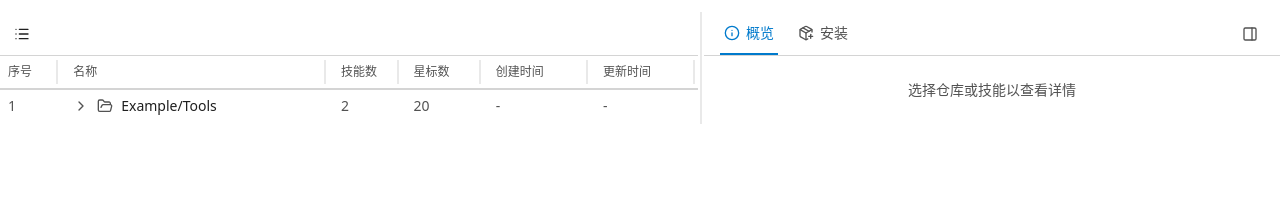
Test: tree browser workspace › opens icon actions with the keyboard, preserves confirmation, and closes on Escape
Press + in the element named "技能列表", box [0,12,698,124]
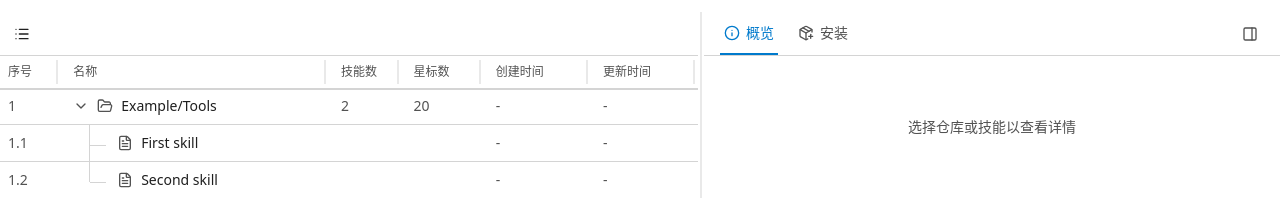
Press F10 in the row named "查看 First skill 的详情", box [0,124,698,162]
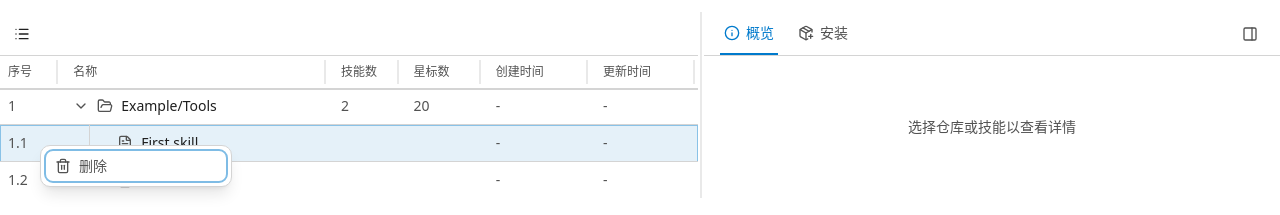
expect the 8th icon is shown: met, box [55,158,71,174]
Click the menu item "删除".
click(136, 166)  # box [45,150,227,182]
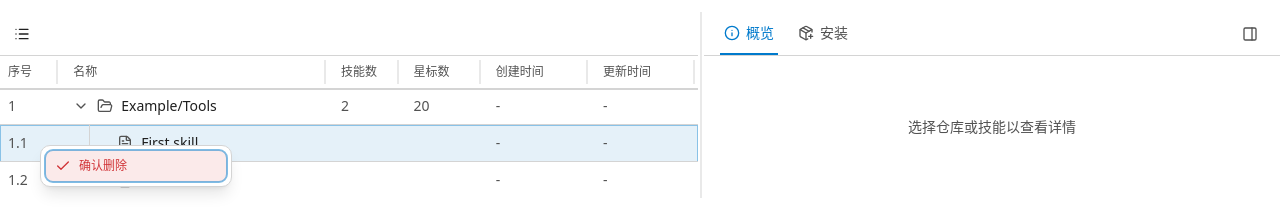
Click the menu item "确认删除".
click(136, 166)  # box [45,150,227,182]
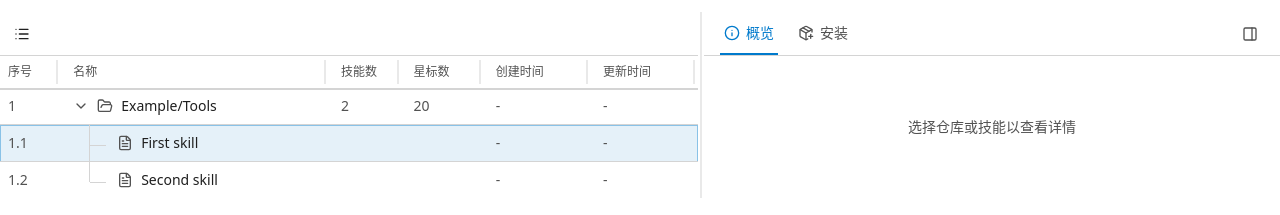
expect the menu is gone: met
Right-click the row named "查看 First skill 的详情".
right_click(349, 143)  # box [0,124,698,162]
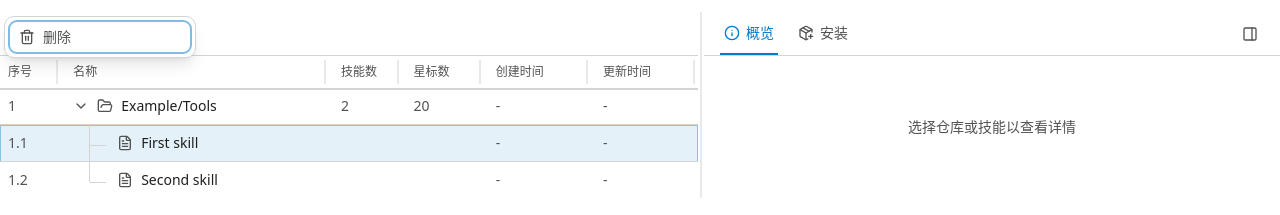
Press Escape in the menu, box [4,16,196,58]
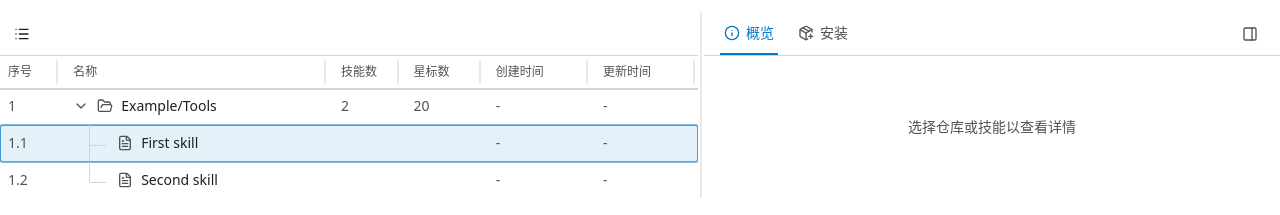
expect the menu is gone: met
